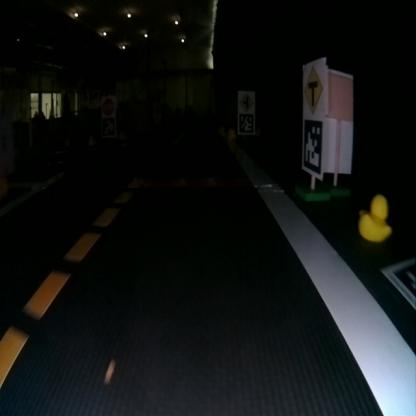Duckie: (358, 197, 390, 242), (226, 128, 234, 140), (119, 131, 125, 139), (88, 135, 93, 143)
Intersection sign: (302, 64, 323, 113), (238, 93, 253, 110)
QR code: (381, 258, 414, 309), (302, 119, 322, 173), (238, 112, 253, 134), (102, 116, 115, 135)
Stop sign: (102, 96, 115, 115)
